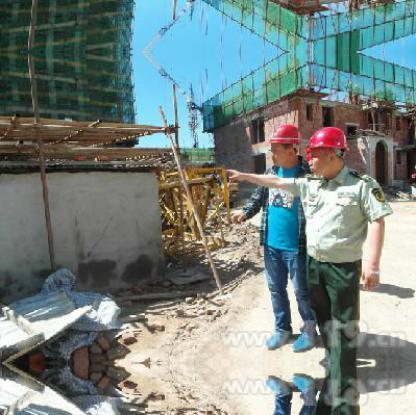helmet: (304, 119, 353, 155), (266, 124, 307, 150)
